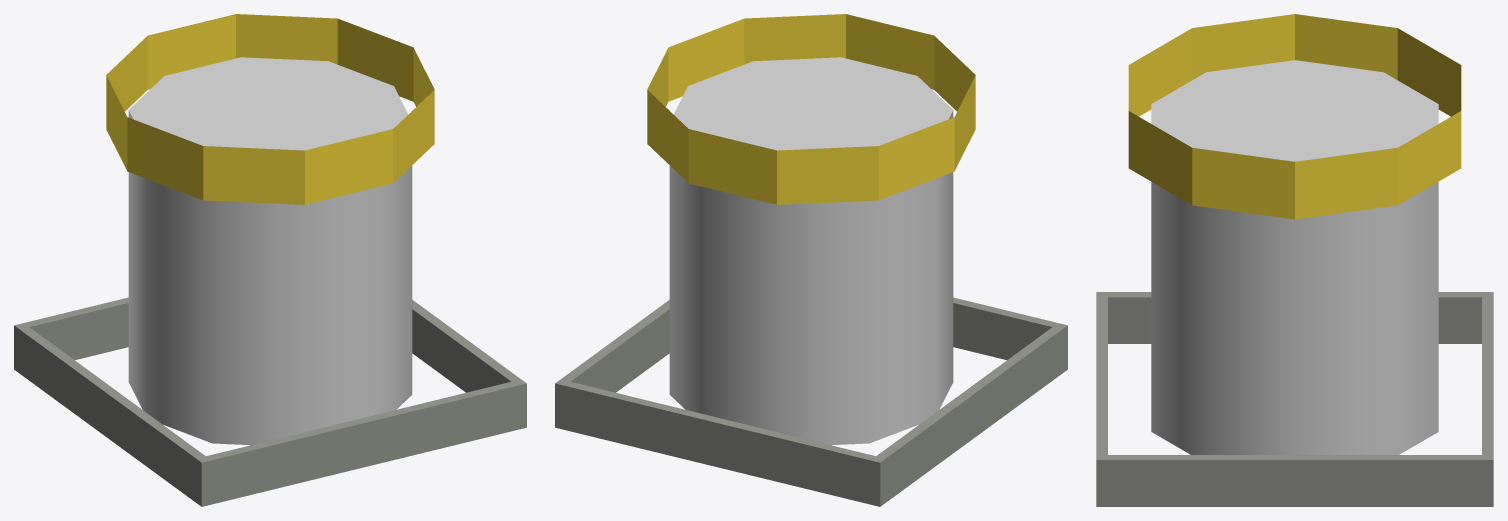
The model's file is port_cargo1_far.fbx.
3 views of the same model, side by side, from view 1: azimuth 30°, elevation 25°; view 2: azimuth 150°, elevation 25°; view 3: azimuth 270°, elevation 25° (orthographic). The views are drawn at different scales.
Parts seen in each view (by area): view 1: a402_0_port_cargo1_far; view 2: a402_0_port_cargo1_far; view 3: a402_0_port_cargo1_far.
Boxes of the visible parts, x1,y1,x2,y2 form: a402_0_port_cargo1_far: (14, 14, 526, 506); a402_0_port_cargo1_far: (555, 14, 1067, 506); a402_0_port_cargo1_far: (1096, 14, 1493, 506).
Bounding box in the file's own units: 10 × 9.3 × 10.
